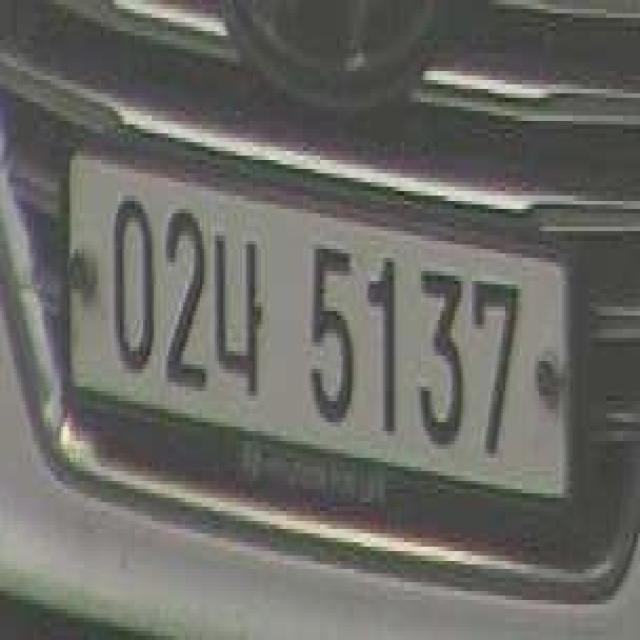illegal_plate: (68, 136, 581, 540)
